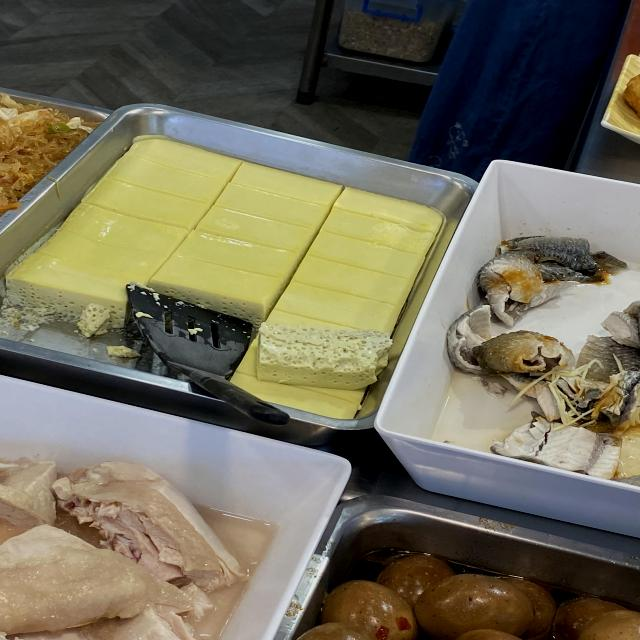steamed egg: (80, 202, 396, 284)
